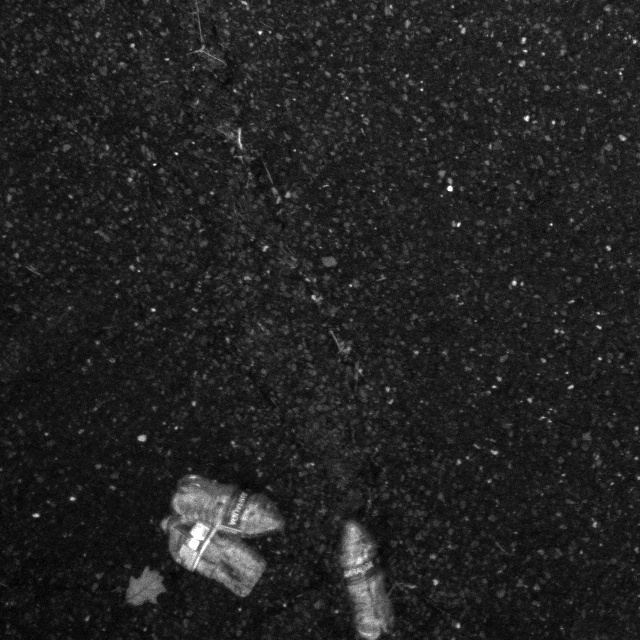bottle: (319, 509, 406, 640), (159, 467, 295, 548), (141, 517, 269, 600)
